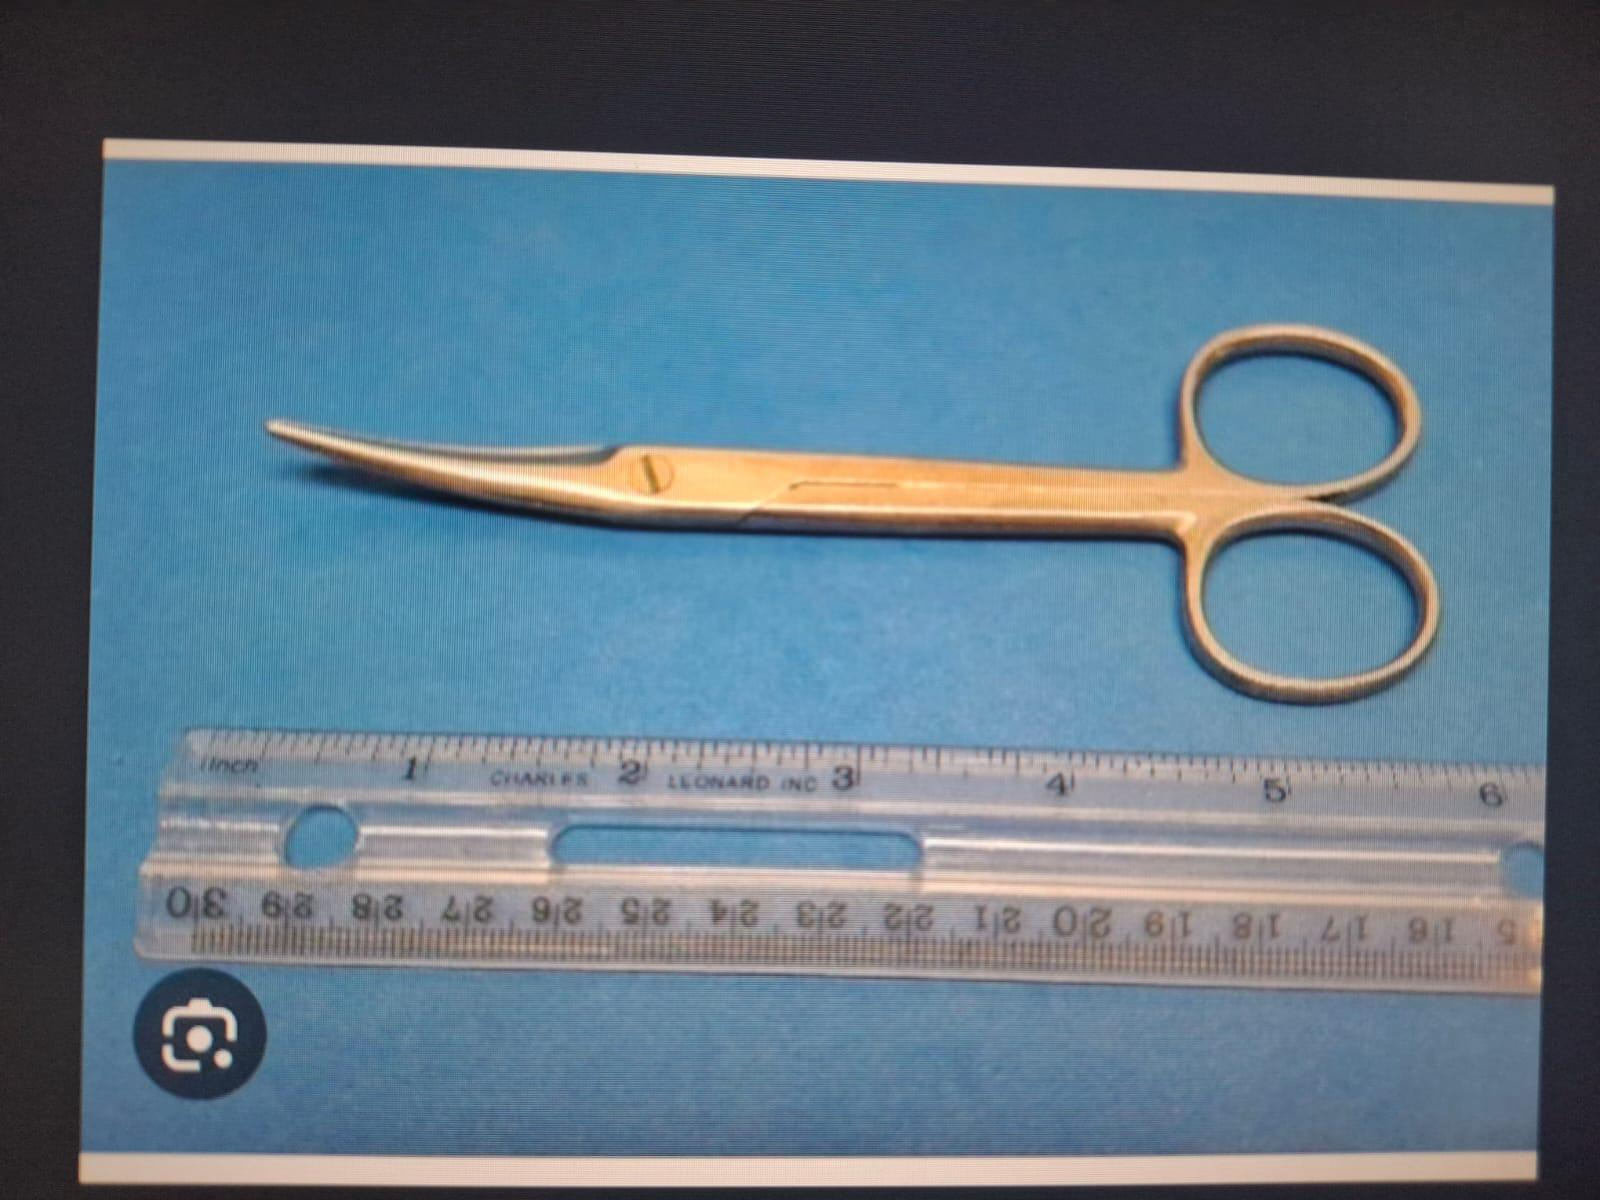Curved Mayo: (248, 306, 1444, 724)
